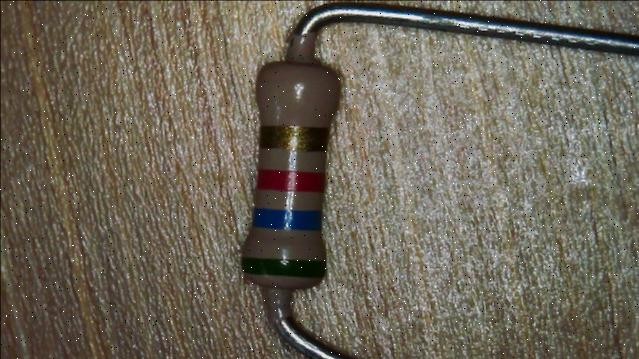blue: (250, 208, 320, 229)
gold: (256, 123, 330, 150)
green: (240, 257, 326, 276)
red: (254, 170, 326, 190)
resistor: (221, 32, 360, 325)
